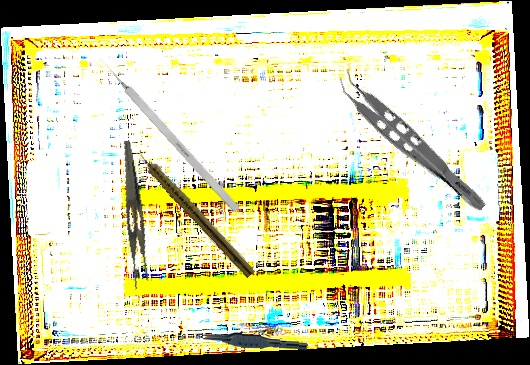Dressing Forceps: (107, 140, 157, 290)
Handpiece: (133, 146, 258, 279)
Hook Surgical: (97, 55, 241, 214)
Tissue Forceps: (328, 65, 499, 216), (194, 330, 308, 351)
